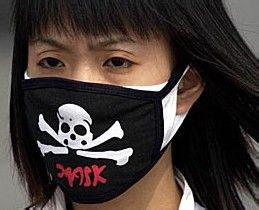OK: (28, 32, 186, 198)
